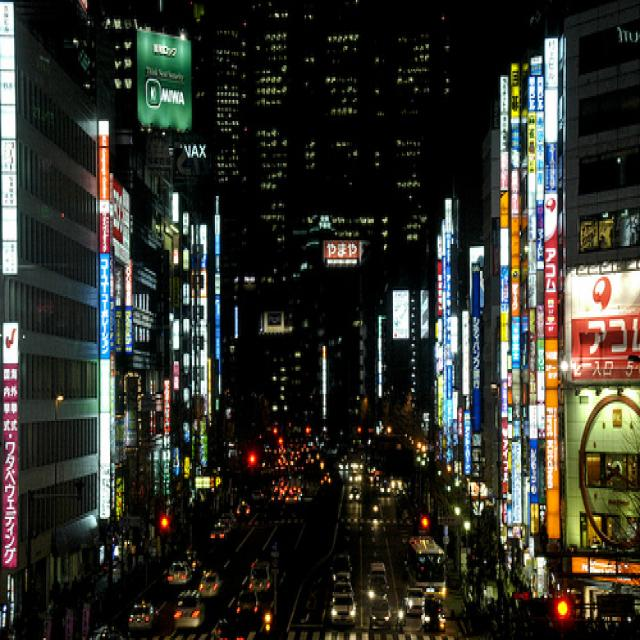Vehicle: (218, 359, 450, 638), (409, 536, 447, 598), (174, 591, 205, 628), (329, 591, 356, 632), (128, 599, 160, 633), (368, 595, 393, 632), (366, 576, 390, 604), (199, 572, 224, 597), (250, 557, 268, 590), (167, 563, 192, 585), (331, 570, 353, 591), (209, 525, 230, 543), (237, 502, 250, 518), (349, 488, 360, 504), (380, 482, 391, 497)
